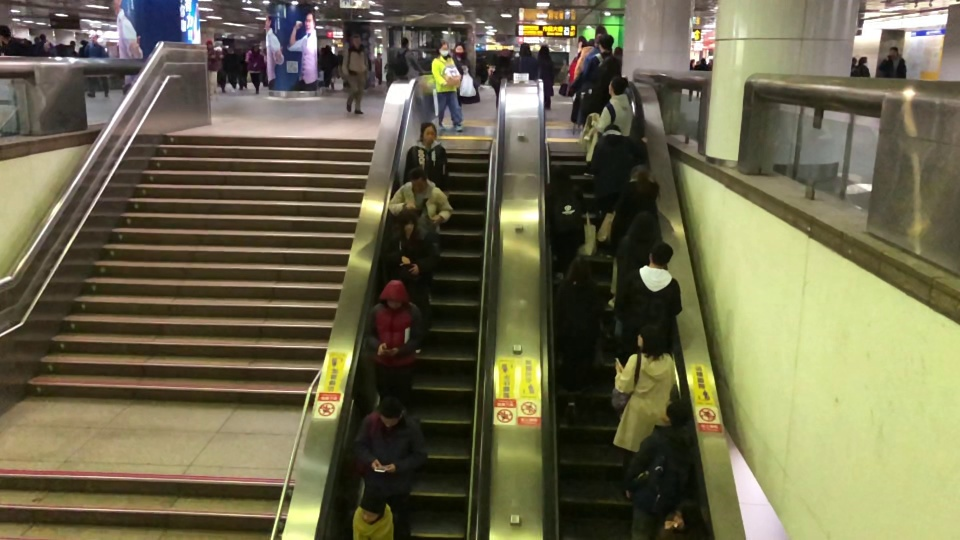person_head: (357, 485, 388, 524), (658, 397, 689, 427), (376, 395, 404, 428), (673, 497, 700, 531), (627, 211, 657, 241), (379, 278, 408, 309), (633, 324, 662, 351), (647, 241, 673, 267), (563, 255, 589, 281), (408, 165, 428, 194), (397, 207, 417, 235), (549, 162, 571, 187), (419, 121, 438, 146), (607, 75, 626, 95), (629, 163, 649, 181), (597, 33, 614, 52), (601, 56, 616, 76), (437, 39, 451, 57), (601, 123, 621, 135), (454, 41, 466, 58), (350, 32, 362, 48), (519, 41, 531, 57), (538, 44, 549, 60), (0, 24, 10, 41), (499, 47, 511, 61), (887, 45, 899, 57), (594, 32, 603, 47), (400, 36, 409, 49), (205, 38, 214, 50), (858, 56, 868, 65), (90, 33, 98, 44), (252, 43, 259, 52), (587, 39, 593, 46), (690, 58, 696, 65), (700, 57, 705, 63), (709, 57, 714, 63), (851, 57, 856, 63), (376, 52, 380, 57)
person_vbox: (353, 395, 428, 538), (625, 396, 693, 540), (610, 323, 677, 466), (387, 165, 454, 305), (603, 162, 661, 307), (555, 254, 601, 428), (383, 207, 436, 352), (365, 278, 426, 402), (612, 240, 683, 340), (611, 210, 658, 336), (590, 123, 649, 205), (545, 162, 585, 281), (403, 121, 450, 198), (346, 484, 406, 540), (430, 40, 463, 132), (590, 75, 633, 138), (341, 33, 368, 116), (655, 496, 700, 540), (85, 32, 111, 99), (490, 46, 516, 112), (588, 56, 615, 116), (393, 36, 423, 80), (585, 33, 613, 80), (537, 44, 555, 112), (204, 37, 221, 100), (876, 45, 907, 79), (245, 42, 265, 94), (513, 41, 538, 80), (583, 32, 604, 76), (573, 38, 593, 80), (453, 41, 474, 80), (0, 24, 21, 56), (851, 56, 871, 78), (689, 58, 697, 104), (374, 53, 383, 84), (695, 57, 708, 71)
